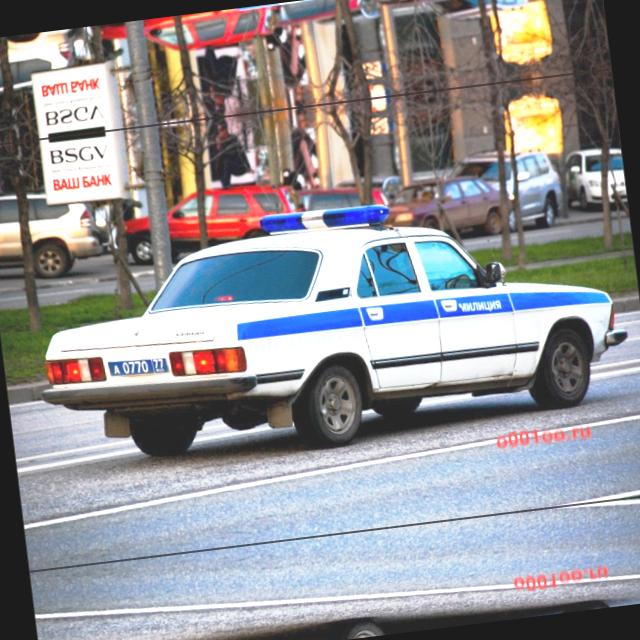police: (104, 348, 173, 384)
